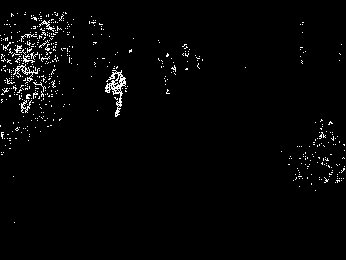person: (102, 61, 131, 118)
